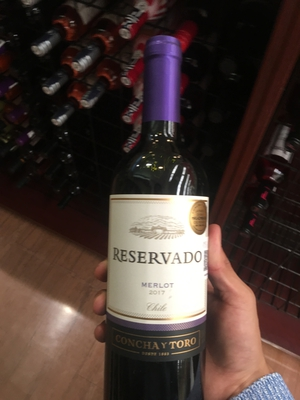reservado merlot: (104, 33, 220, 400)
